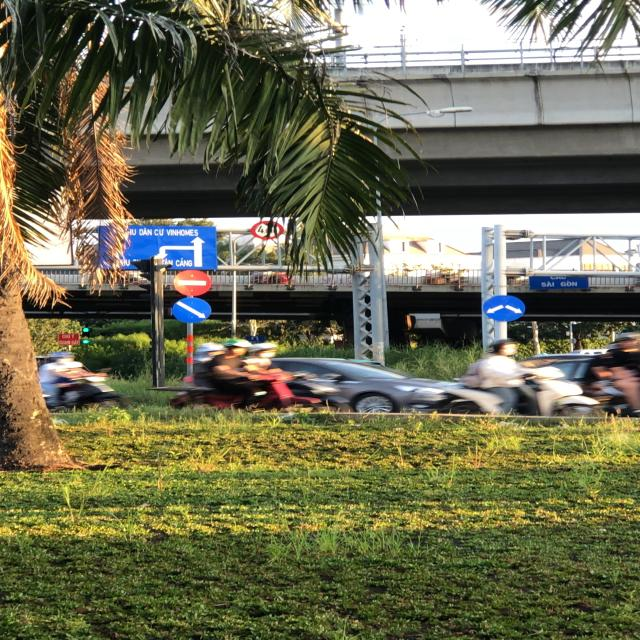Bien bao cam di nguoc chieu: (172, 268, 216, 296)
